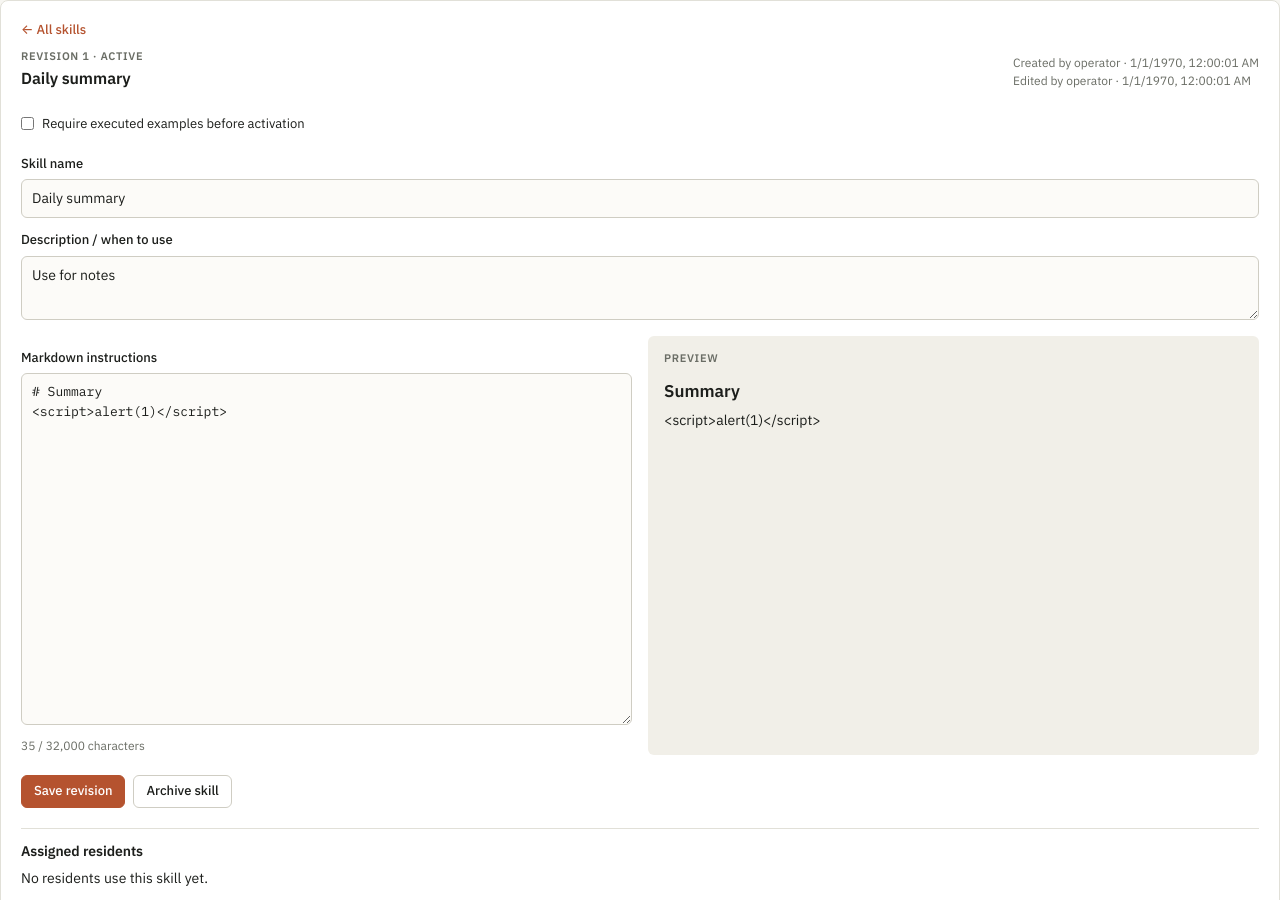
preserves a dirty editor when an external revision arrives
Replace the text in the text box labelled "Markdown instructions" with "Unsaved human draft" at (326, 549), box x1=21 y1=373 x2=632 y2=725
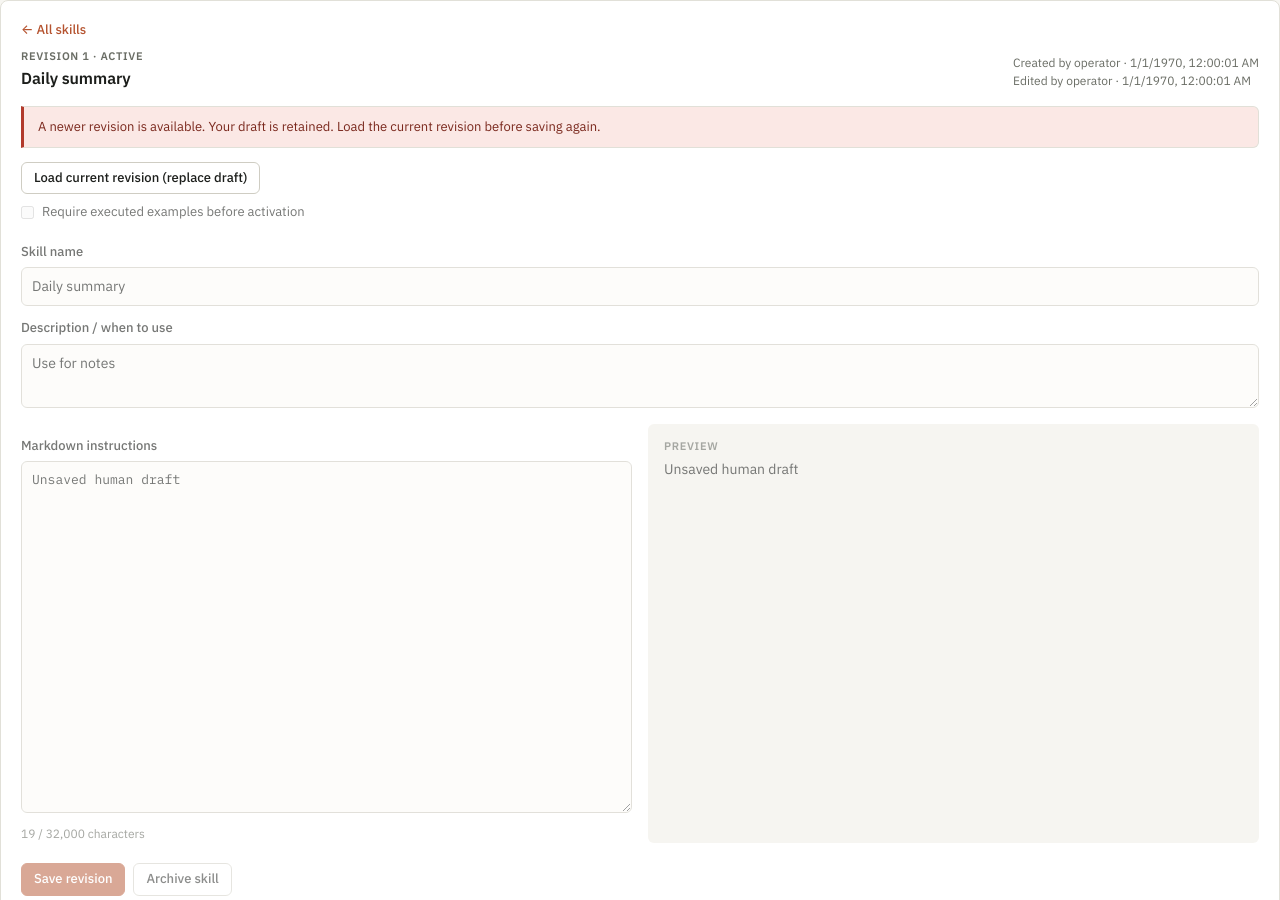
Result: the text "A newer revision is available" is shown at x1=38 y1=118 x2=601 y2=135
Click the button "Load current revision (replace draft)" at (141, 178), box x1=21 y1=162 x2=260 y2=194
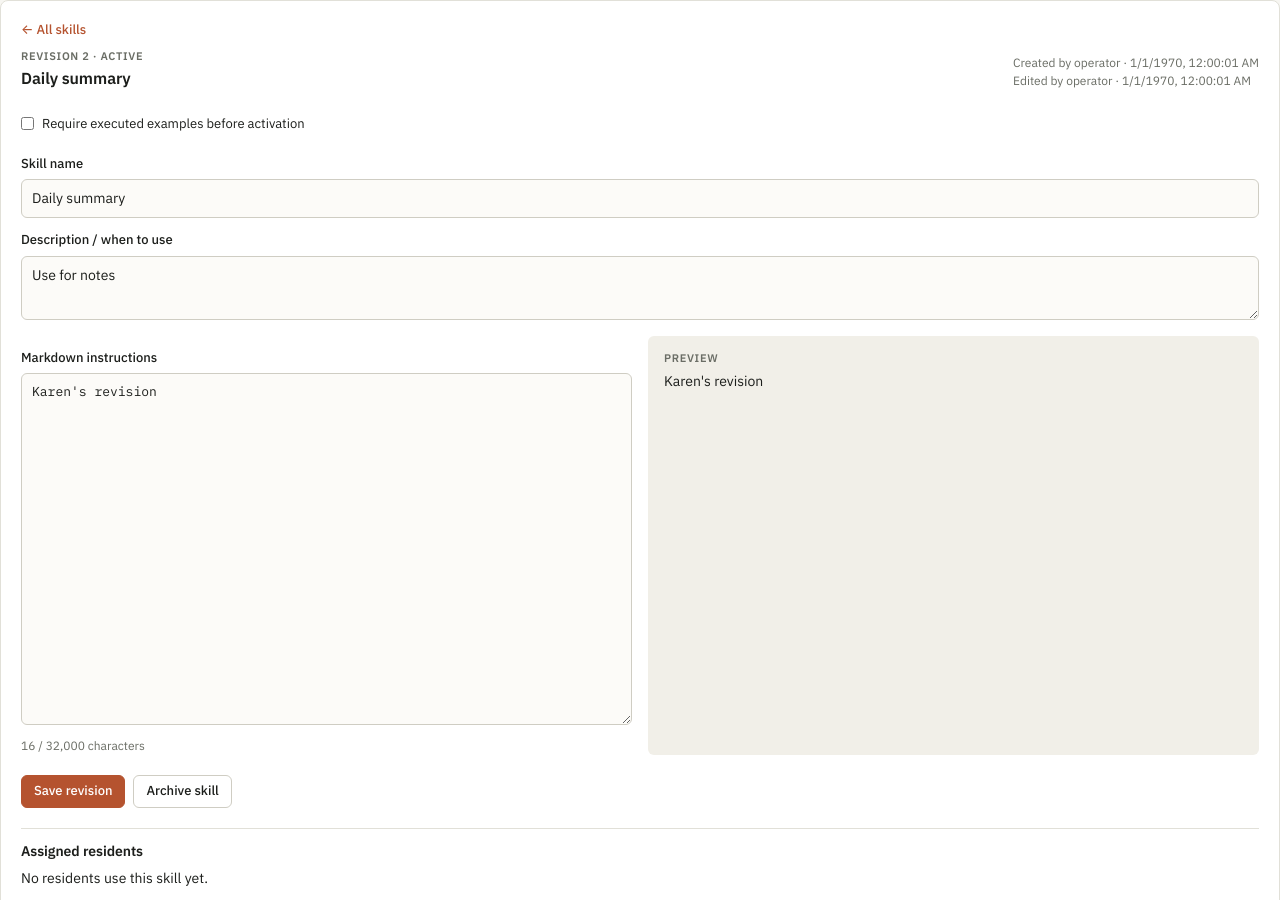
Result: the text "REVISION 2 · ACTIVE" is shown at x1=21 y1=48 x2=143 y2=64
Result: the text box labelled "Markdown instructions" holds "Karen's revision" at x1=21 y1=373 x2=632 y2=725
